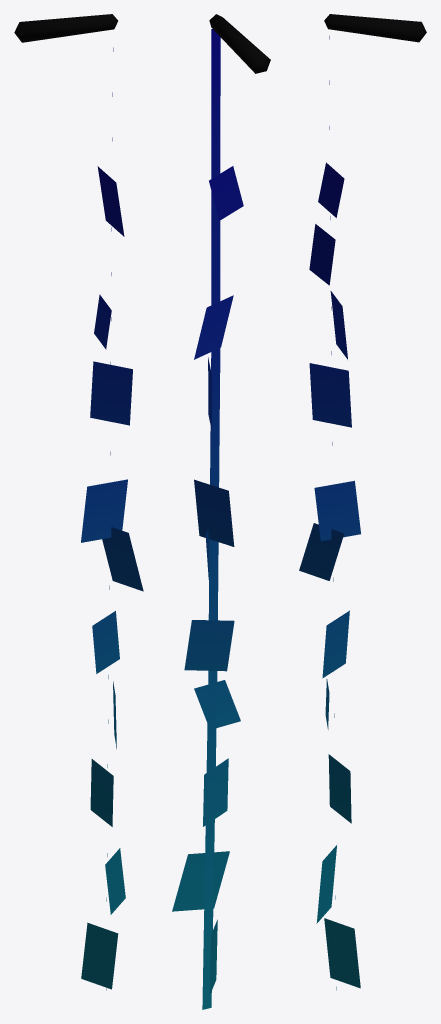
The model's file is SM_Pit_TagStrand_B_LOD1.fbx.
The picture shows the model from 3 angles, left to right: view 1: azimuth 90°, elevation 25°; view 2: azimuth 210°, elevation 25°; view 3: azimuth 270°, elevation 25°; orthographic projection.
Visible parts, largest first — view 1: SM_Pit_TagStrand_B_LOD1; view 2: SM_Pit_TagStrand_B_LOD1; view 3: SM_Pit_TagStrand_B_LOD1.
Part boxes in pixels (x1,y1,x2,y2): SM_Pit_TagStrand_B_LOD1: [14, 14, 143, 990]; SM_Pit_TagStrand_B_LOD1: [172, 14, 270, 1009]; SM_Pit_TagStrand_B_LOD1: [299, 14, 426, 990].
Size of the model in its own units: 0.0855 by 1.14 by 0.1334.
